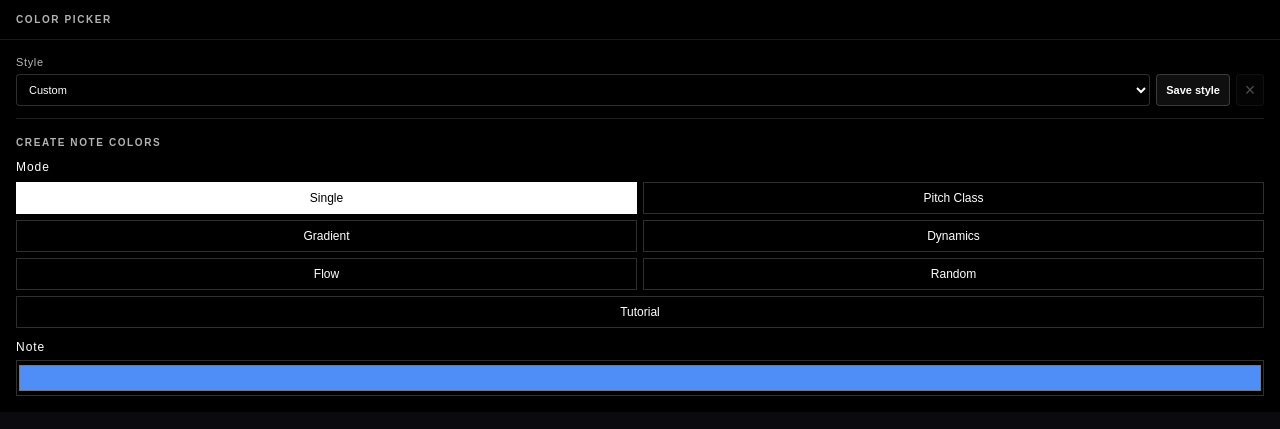
Test: CreateColorPanel › enables stable per-note Random colors with one click
Step 1. Click the button "Random" → click(954, 274), box [643,258,1264,290]
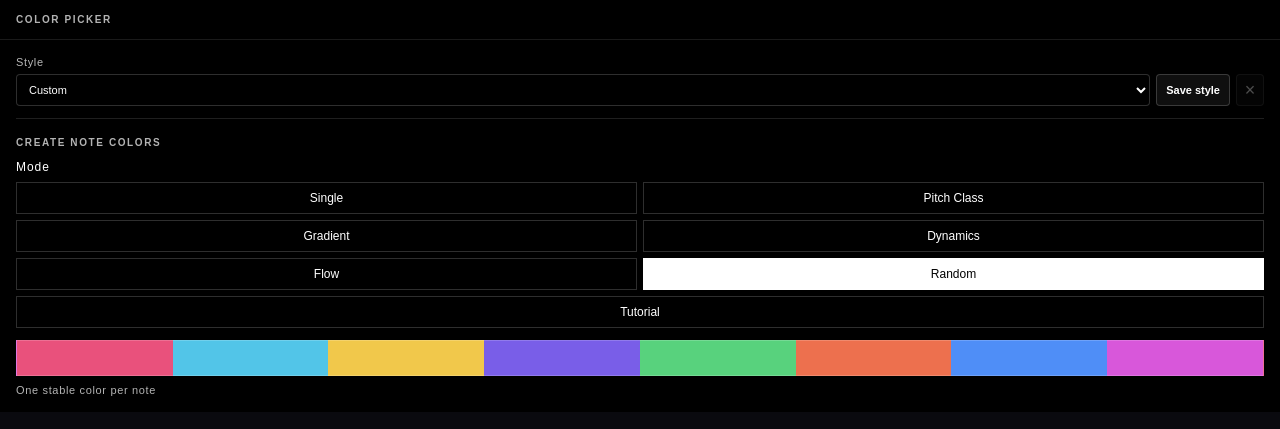
Check: the element named "Each note receives a stable random color" is shown, box [16,340,1264,396]
